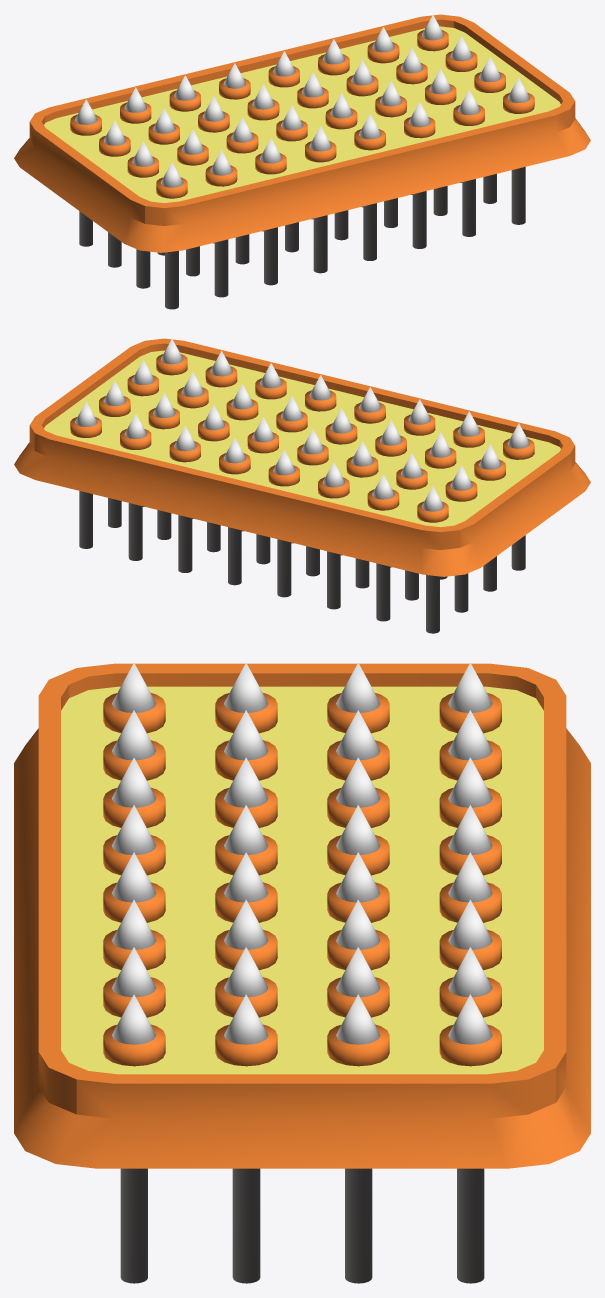
File: Obstacle 7 V3.fbx
The picture shows the model from 3 angles, top to bottom: view 1: azimuth 30°, elevation 25°; view 2: azimuth 150°, elevation 25°; view 3: azimuth 270°, elevation 25°; orthographic projection. The views are drawn at different scales.
Visible parts, largest first — view 1: O7 Part 1, O7 Part 2; view 2: O7 Part 1, O7 Part 2; view 3: O7 Part 1, O7 Part 2.
Part boxes in pixels (x1,y1,x2,y2): O7 Part 1: (14, 14, 590, 252); O7 Part 2: (70, 15, 534, 309); O7 Part 1: (14, 338, 590, 576); O7 Part 2: (70, 339, 534, 633); O7 Part 1: (14, 663, 590, 1168); O7 Part 2: (103, 662, 501, 1283).
Size of the model in its own units: 249 by 74.77 by 138.
Materials: 1 (1 with a texture image).
